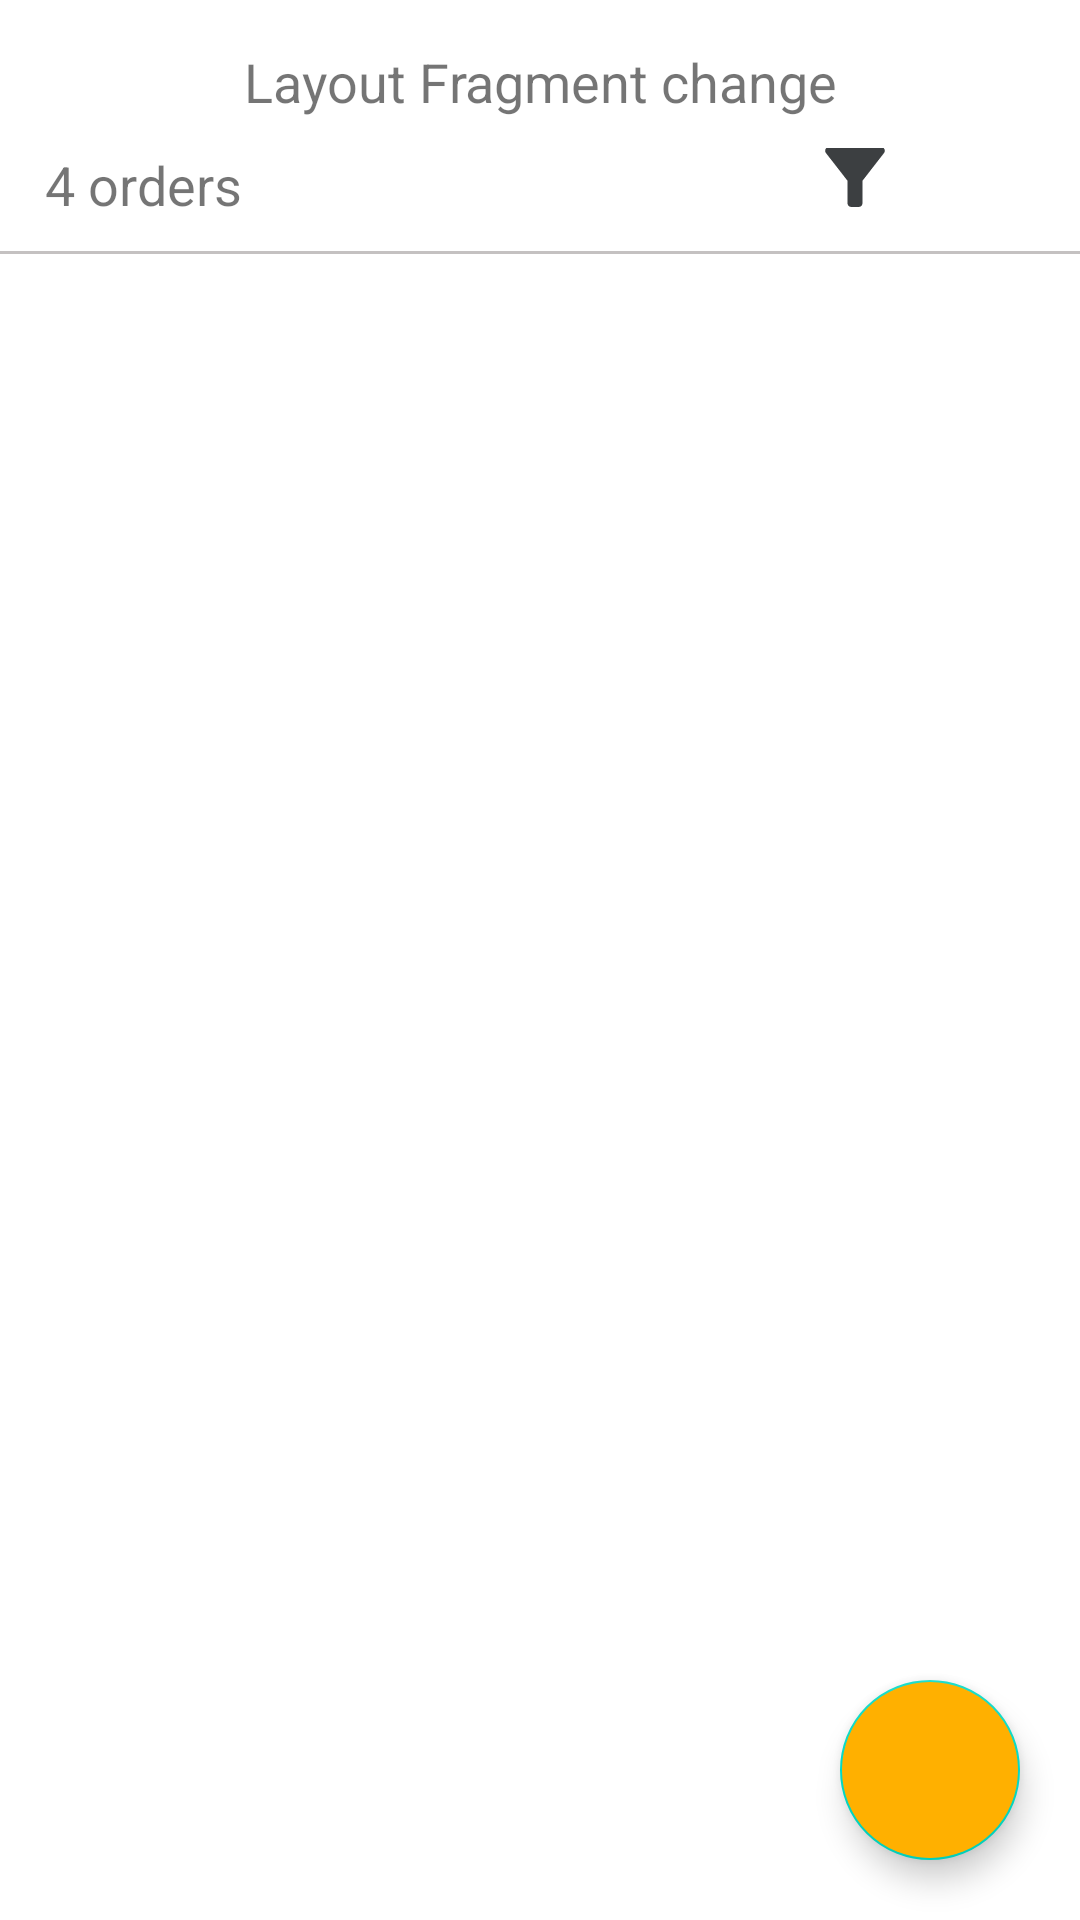

Icon bounding boxes for this 1080x1920 phone screenshot, format (x1, y1, x2, y2):
filter: (825, 148, 885, 207)
